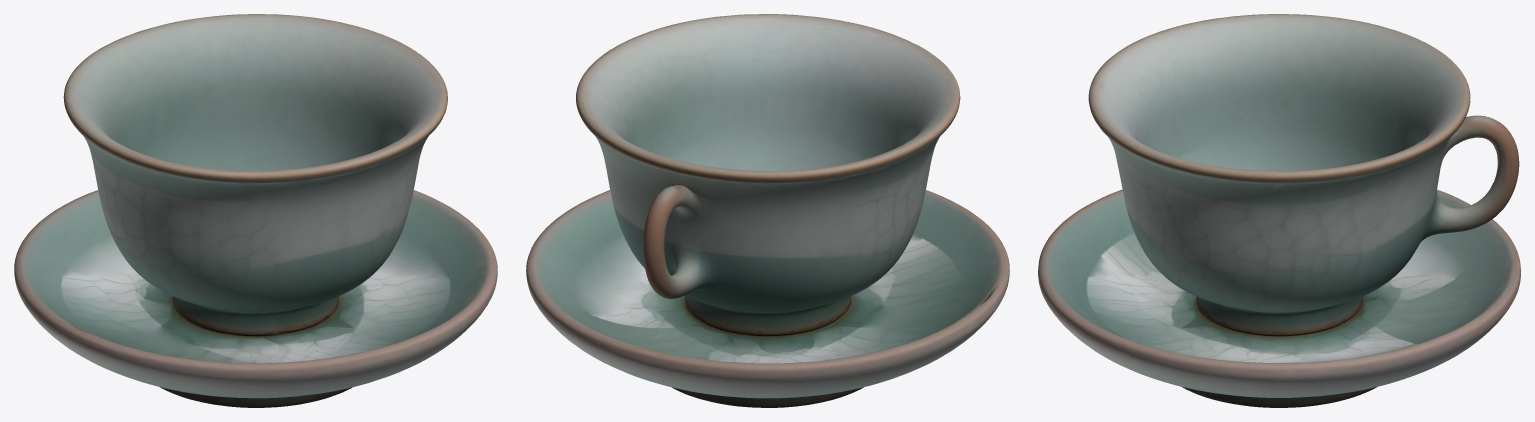
Rendered from teacup_saucer.glb.
3 views of the same model, side by side, from view 1: azimuth 30°, elevation 25°; view 2: azimuth 150°, elevation 25°; view 3: azimuth 270°, elevation 25° (orthographic).
Parts seen in each view (by area): view 1: pivot; view 2: pivot; view 3: pivot.
Part boxes in pixels (x1,y1,x2,y2): pivot: [14, 14, 497, 407]; pivot: [526, 14, 1009, 407]; pivot: [1038, 14, 1520, 407].
Size of the model in its own units: 1.24 by 0.7502 by 1.24.
1 material, 1 textured.
